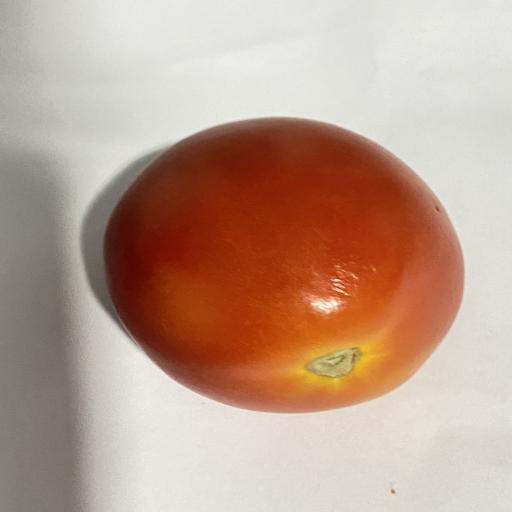ripe: (105, 118, 463, 412)
